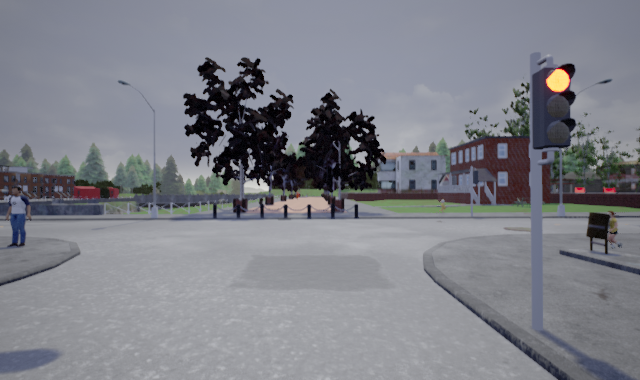pedestrian: (1, 184, 34, 248), (603, 208, 624, 250), (436, 195, 449, 213)
